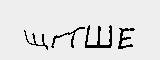Г: (49, 29, 67, 51)
Е: (116, 24, 139, 50)
Т: (66, 24, 85, 49)
Ш: (84, 24, 113, 50)
Щ: (20, 28, 49, 51)
